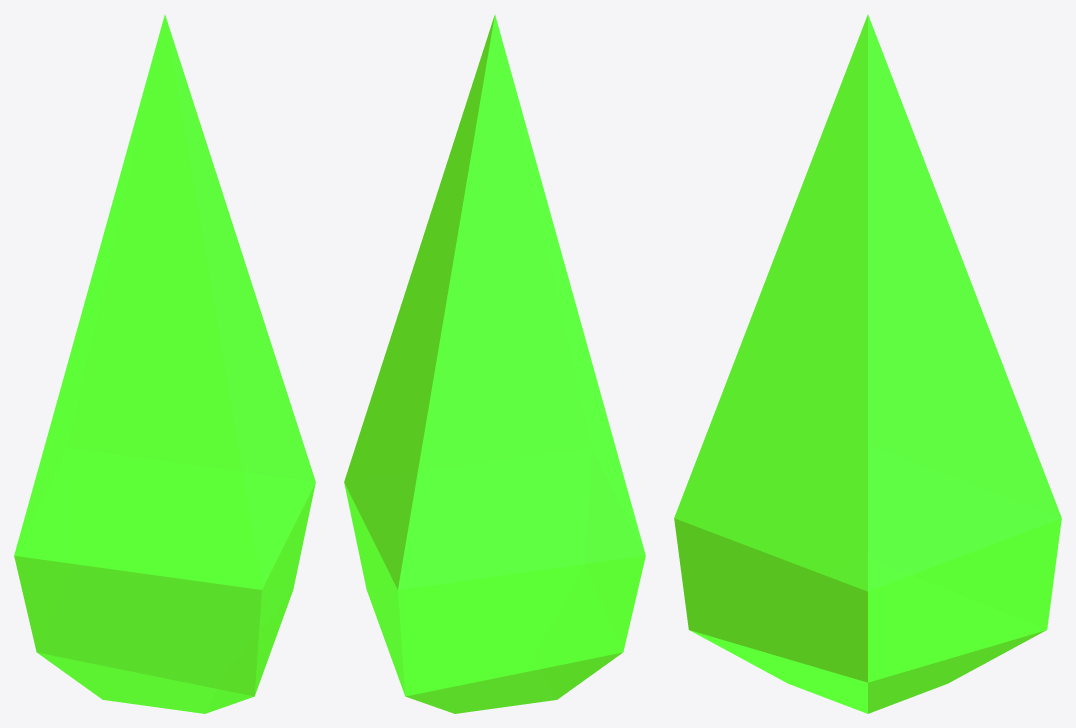
File: prop_crystalgreen_alexius.fbx
The picture shows the model from 3 angles, left to right: view 1: azimuth 30°, elevation 25°; view 2: azimuth 150°, elevation 25°; view 3: azimuth 270°, elevation 25°; orthographic projection.
Visible parts, largest first — view 1: pPyramid1; view 2: pPyramid1; view 3: pPyramid1.
Part boxes in pixels (x1=…): pPyramid1: x1=14, y1=15, x2=315, y2=713; pPyramid1: x1=344, y1=15, x2=645, y2=713; pPyramid1: x1=674, y1=14, x2=1061, y2=713.
Size of the model in its own units: 0.5885 by 1.25 by 0.6558.
